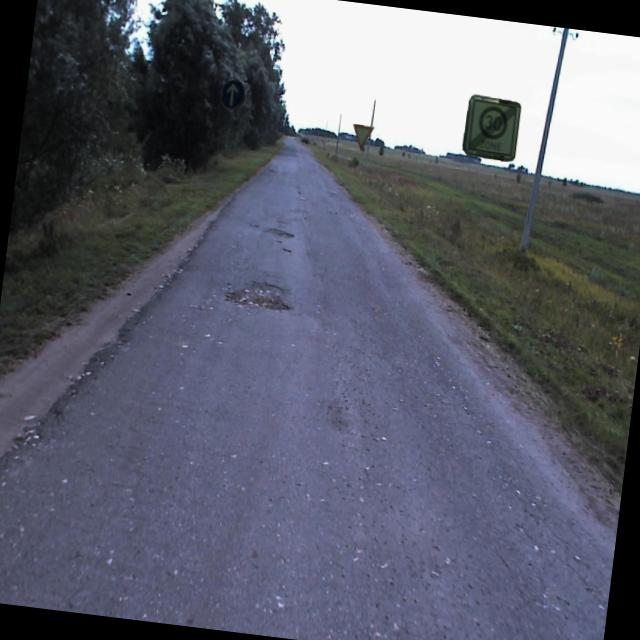road: (0, 134, 615, 640)
